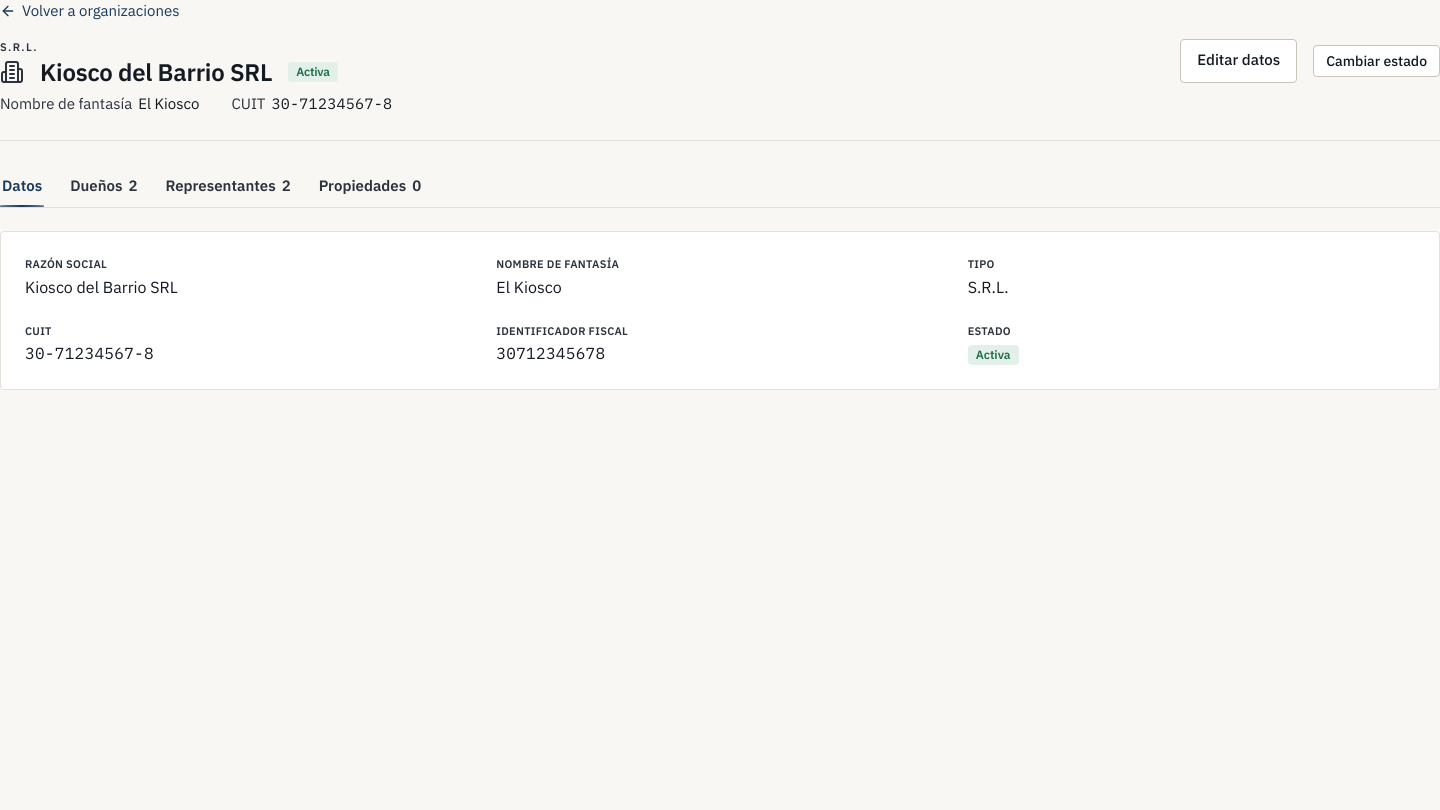
dueños › muestra a cuánto queda el receptor antes de confirmar
The image size is (1440, 810).
Click the tab "Dueños2": (104, 186) [68,164,139,207]
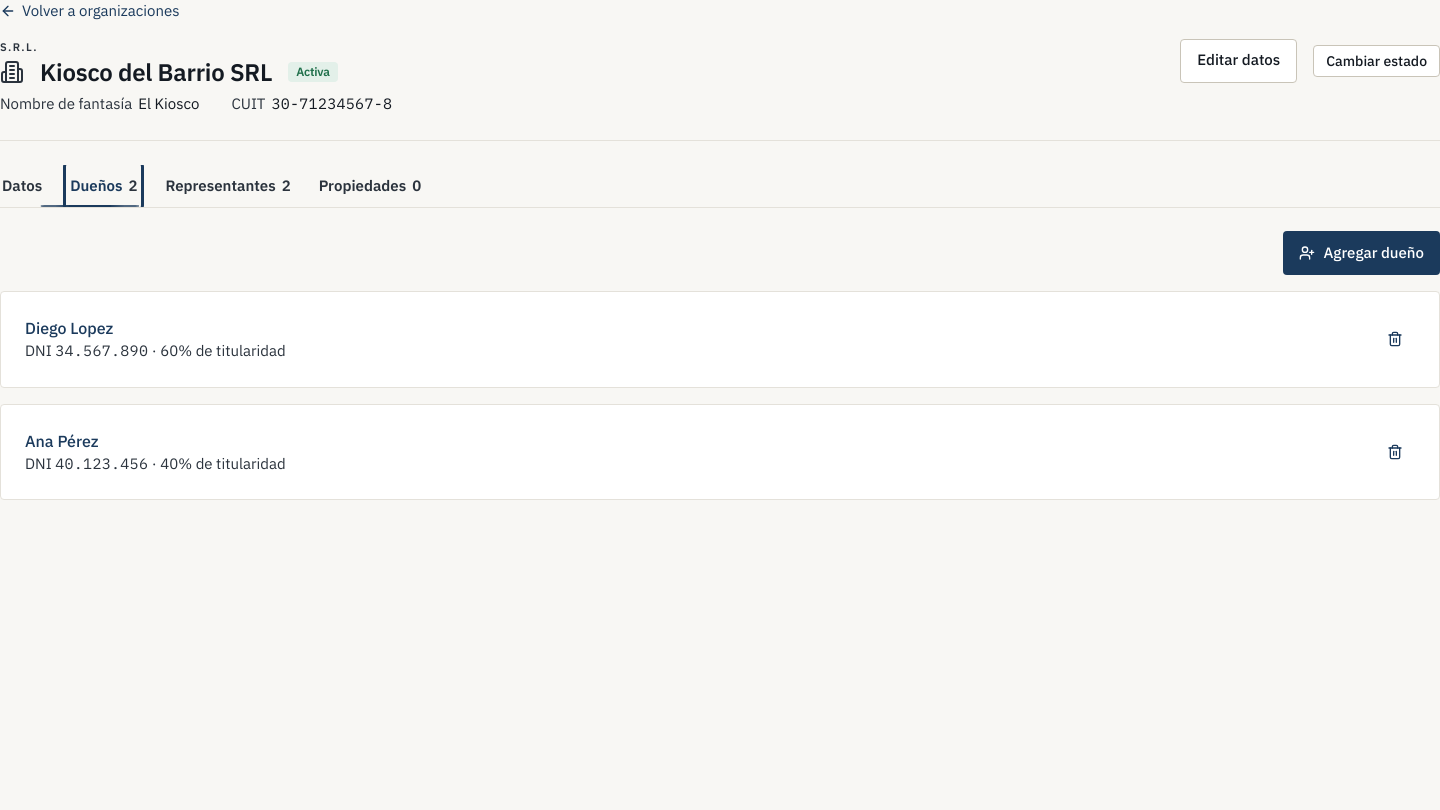
Click the button named "quitar a ana": (1395, 452) [1375,436,1415,468]
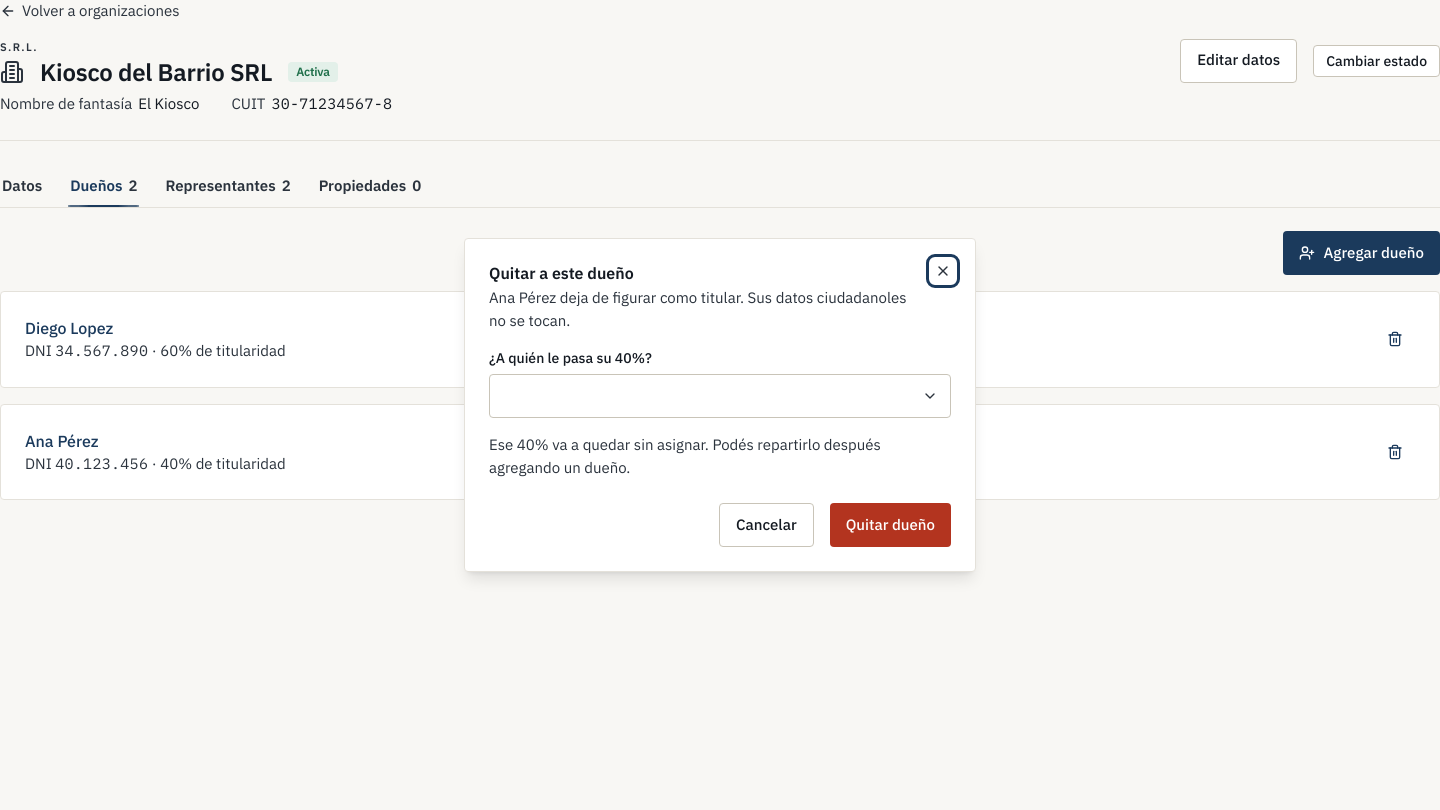
expect the text "¿A quién le pasa su 40%?" is shown: met, box [489,349,652,367]
Press the mouse on the dropdown named "a quién le pasa su 40%": (930, 396) [489,374,951,418]
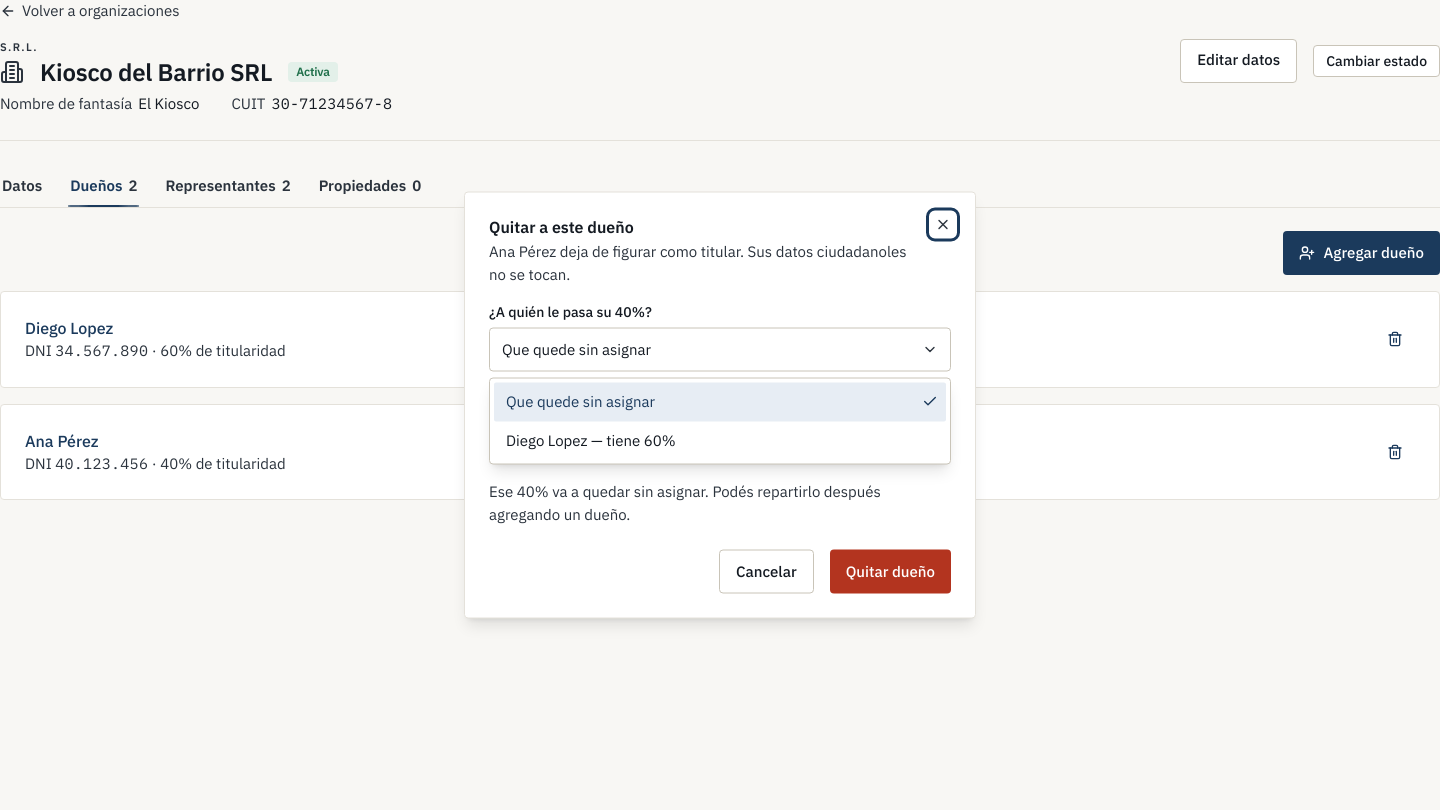
Click the option "Diego Lopez — tiene 60%": (591, 440) [506,430,676,449]
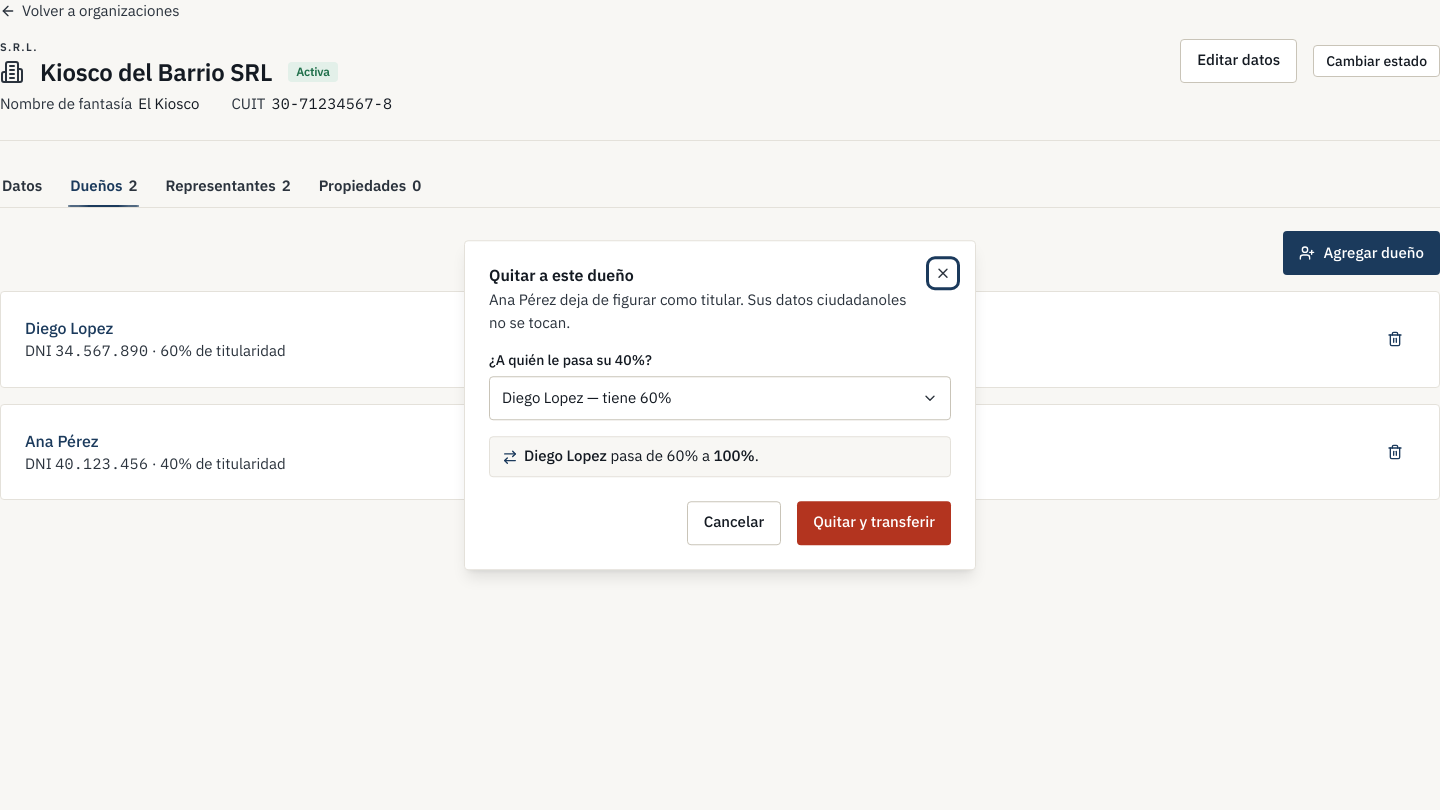
expect the text "Diego Lopez pasa de 60% a 100%." is shown: met, box [489,436,951,477]
